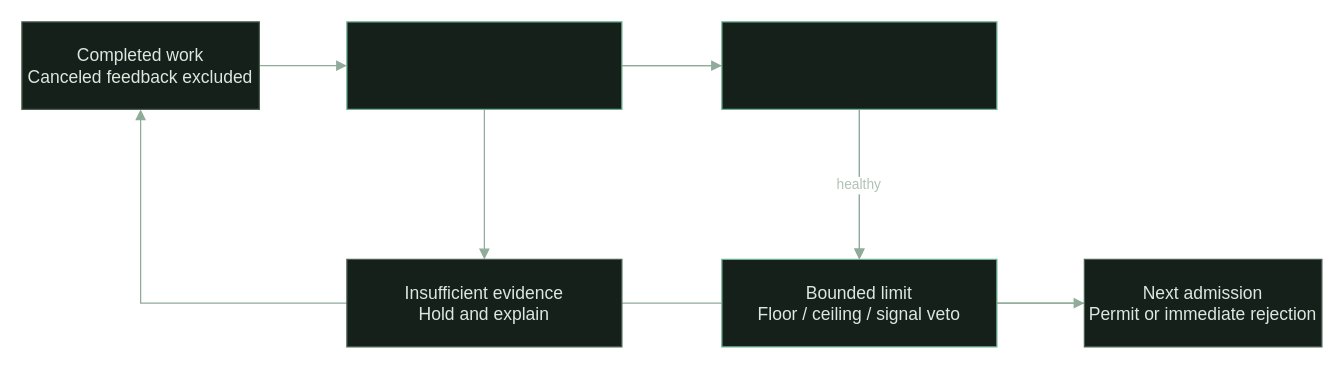
The diagram is 1344 pixels wide and 369 high, and some of its shapes have lost their labels. The centre of each missing label's shape, as x and y in pixels:
"Growth gate Refused demand + headroom" goes at point 859,65.
"Window feedback Targets + tier tails" goes at point 484,65.
